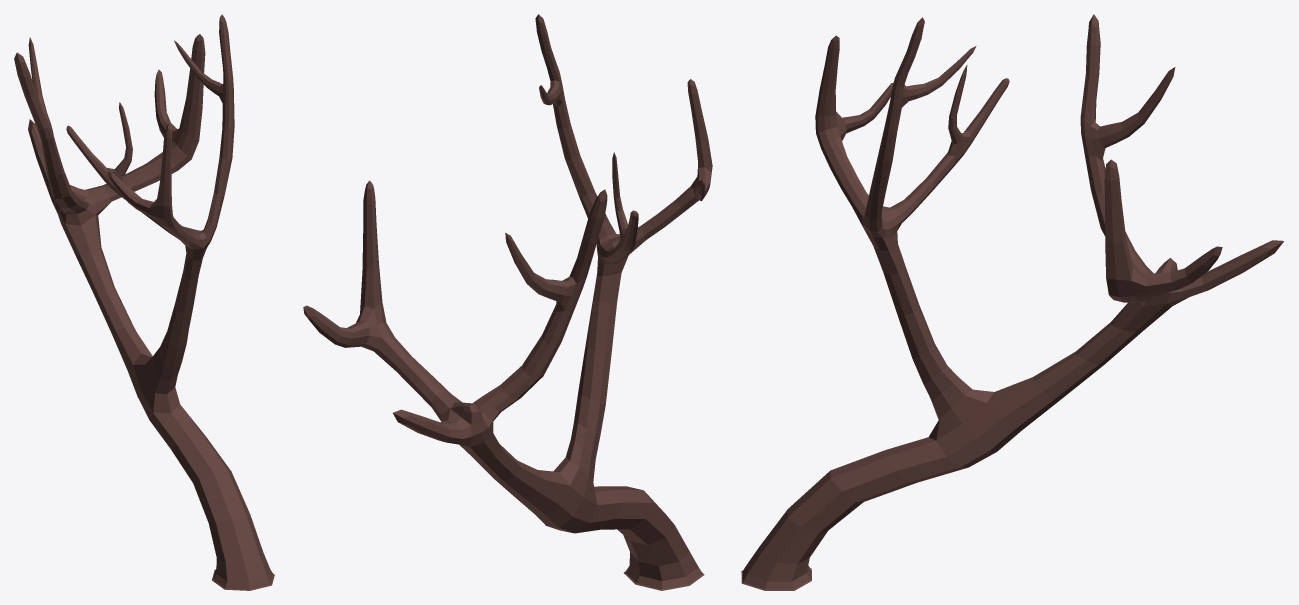
The picture shows the model from 3 angles, left to right: view 1: azimuth 30°, elevation 25°; view 2: azimuth 150°, elevation 25°; view 3: azimuth 270°, elevation 25°; orthographic projection. The views are drawn at different scales.
Parts seen in each view (by area): view 1: Willow_Dead_2; view 2: Willow_Dead_2; view 3: Willow_Dead_2.
Boxes of the visible parts, left/top/right/bottom form: Willow_Dead_2: left=14, top=14, right=274, bottom=590; Willow_Dead_2: left=303, top=14, right=712, bottom=590; Willow_Dead_2: left=741, top=14, right=1283, bottom=590.
Bounding box in the file's own units: 1.17 × 2.84 × 2.4.
